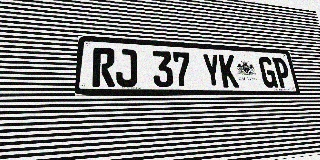3: (152, 51, 174, 87)
7: (171, 52, 193, 87)
G: (258, 57, 278, 88)
J: (116, 49, 137, 87)
K: (218, 54, 239, 88)
P: (272, 57, 292, 88)
R: (92, 47, 115, 87)
Y: (201, 53, 223, 87)
